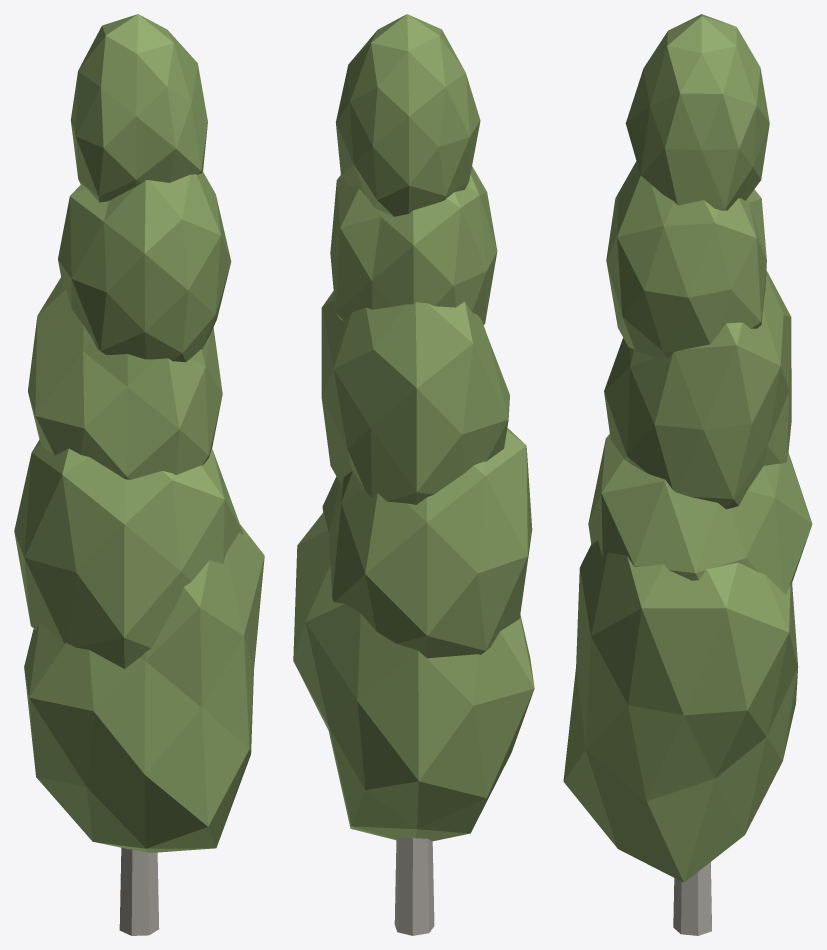
Rendered from tree_alamo.glb.
3 renders of one model, left to right at view 1: azimuth 30°, elevation 25°; view 2: azimuth 150°, elevation 25°; view 3: azimuth 270°, elevation 25°, orthographic.
Visible parts, largest first — view 1: body; view 2: body; view 3: body.
Boxes of the visible parts, box(x1,y1,x2,y2) form: body: box(14, 14, 264, 935); body: box(293, 14, 534, 935); body: box(563, 14, 812, 935).
Size of the model in its own units: 2.48 by 9.89 by 2.45.
